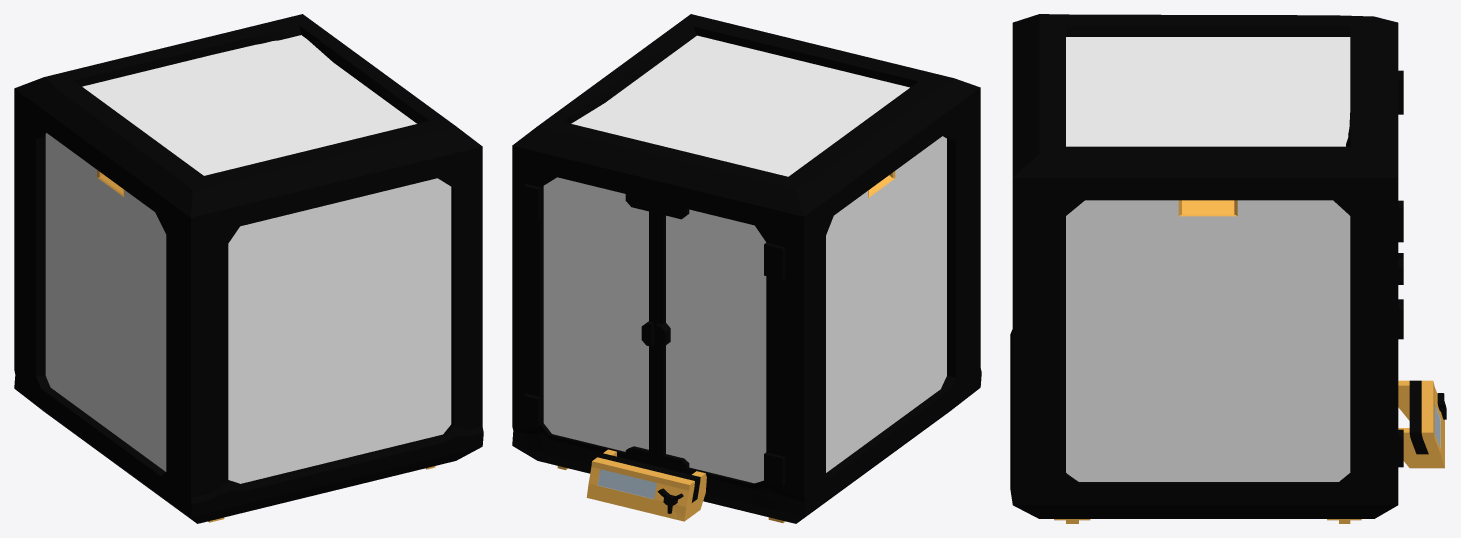
The model's file is 3D_Printer.fbx.
The picture shows the model from 3 angles, left to right: view 1: azimuth 30°, elevation 25°; view 2: azimuth 150°, elevation 25°; view 3: azimuth 270°, elevation 25°; orthographic projection. The views are drawn at different scales.
Parts seen in each view (by area): view 1: 3D-Printer (1).003; view 2: 3D-Printer (1).003; view 3: 3D-Printer (1).003.
Boxes of the visible parts, <box> form: 3D-Printer (1).003: <box>14,14,483,523</box>; 3D-Printer (1).003: <box>512,14,981,523</box>; 3D-Printer (1).003: <box>1010,14,1446,523</box>.
Size of the model in its own units: 31.04 by 34.82 by 36.83.
